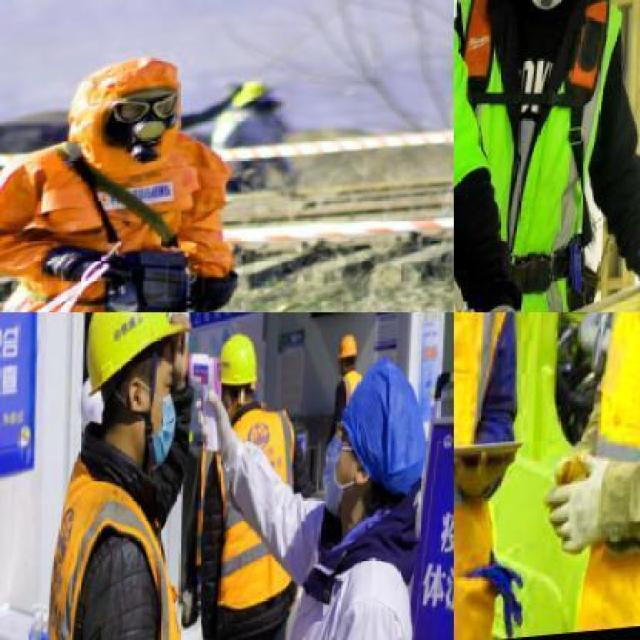Vest: (454, 0, 629, 311), (0, 129, 240, 311), (45, 418, 218, 638), (454, 312, 534, 638), (206, 417, 311, 618), (592, 312, 638, 638), (340, 378, 366, 429)
